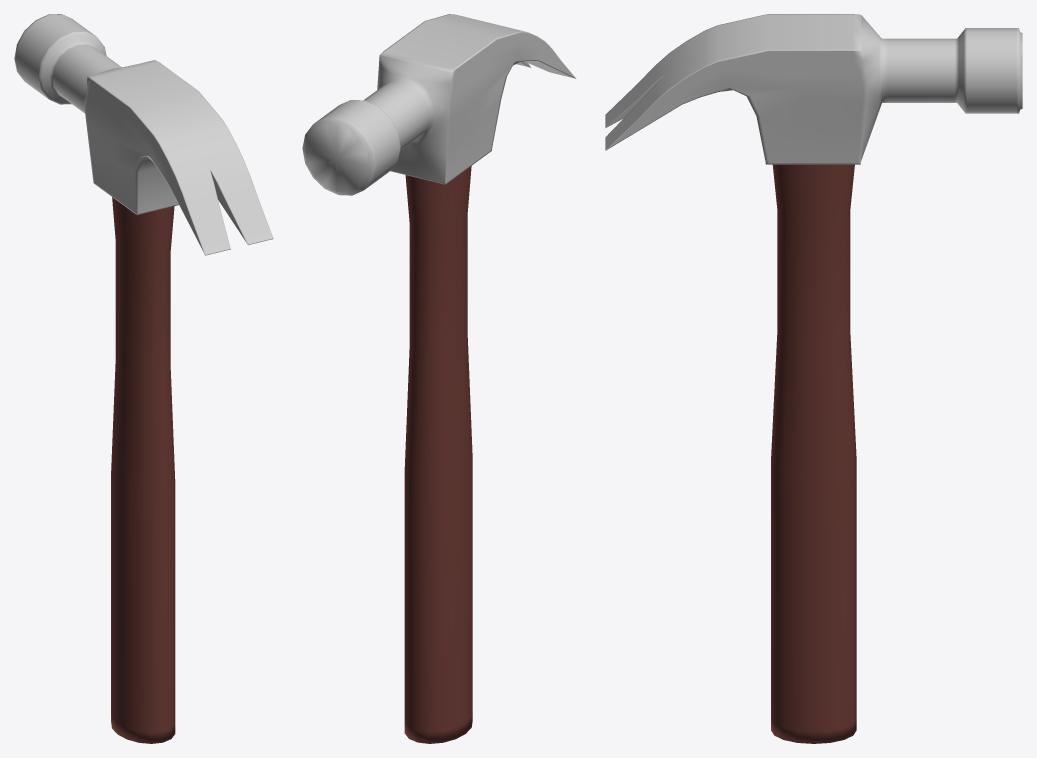
Rendered from Hammer.obj.
3 renders of one model, left to right at view 1: azimuth 30°, elevation 25°; view 2: azimuth 150°, elevation 25°; view 3: azimuth 270°, elevation 25°, orthographic. The views are drawn at different scales.
Parts seen in each view (by area): view 1: WoodPart, SteelPart; view 2: WoodPart, SteelPart; view 3: WoodPart, SteelPart.
Boxes of the visible parts, bbox=[...] form: WoodPart: bbox=[111, 197, 175, 743]; SteelPart: bbox=[14, 14, 273, 255]; WoodPart: bbox=[404, 166, 472, 743]; SteelPart: bbox=[302, 14, 576, 195]; WoodPart: bbox=[771, 164, 856, 743]; SteelPart: bbox=[605, 14, 1022, 164].
Size of the model in its own units: 0.0389 by 0.35 by 0.1896.
